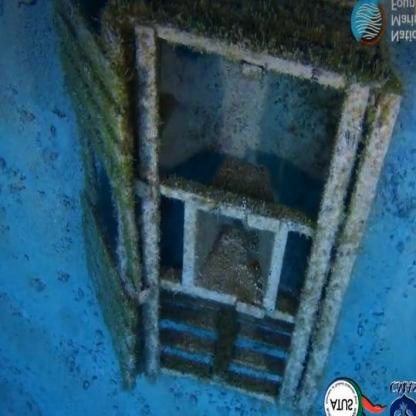misc: (98, 81, 327, 388)
